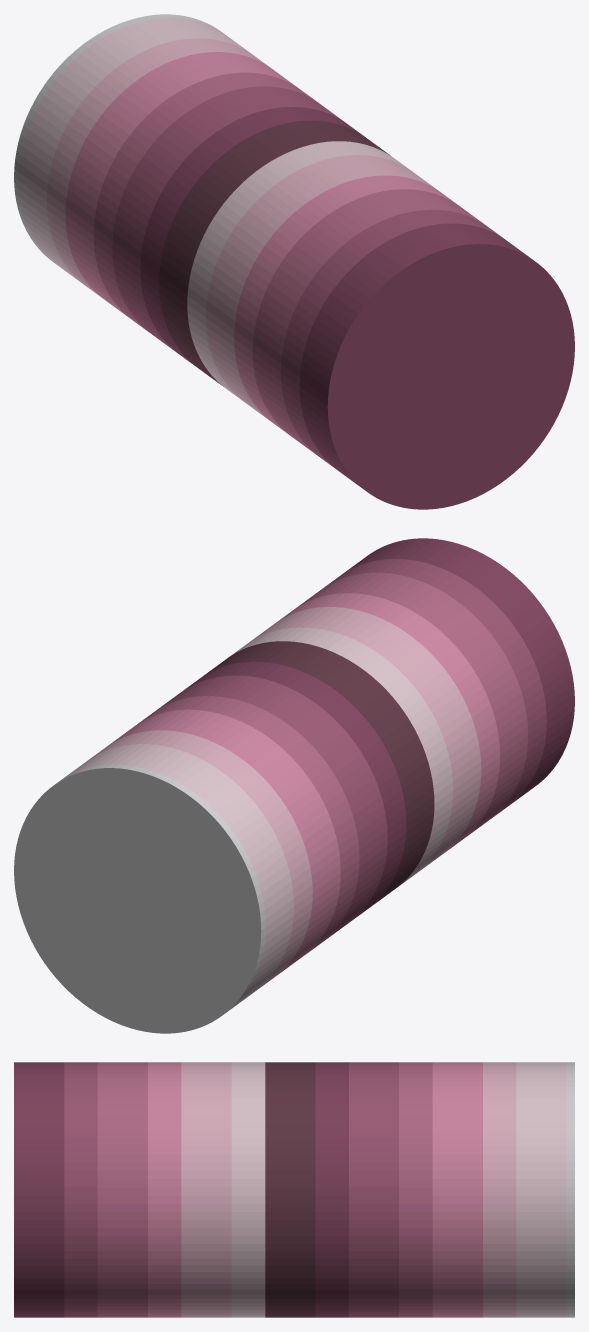
Rendered from cake_6in_layers7.glb.
The picture shows the model from 3 angles, top to bottom: view 1: azimuth 30°, elevation 25°; view 2: azimuth 150°, elevation 25°; view 3: azimuth 270°, elevation 25°; orthographic projection. The views are drawn at different scales.
Visible parts, largest first — view 1: geometry_12, geometry_6, geometry_4, geometry_8, geometry_2, geometry_0, geometry_10, geometry_3, geometry_9, geometry_7, geometry_5, geometry_1 (+2 smaller); view 2: geometry_13, geometry_2, geometry_6, geometry_4, geometry_10, geometry_12, geometry_0, geometry_8, geometry_5, geometry_7, geometry_1, geometry_3 (+2 smaller); view 3: geometry_0, geometry_2, geometry_6, geometry_8, geometry_10, geometry_12, geometry_4, geometry_7, geometry_1, geometry_3, geometry_5, geometry_9 (+2 smaller).
Part boxes in pixels (<box>): geometry_12: <box>299,223,574,509</box>; geometry_6: <box>159,120,390,385</box>; geometry_4: <box>112,86,343,350</box>; geometry_8: <box>206,155,436,420</box>; geometry_2: <box>65,52,297,317</box>; geometry_0: <box>18,17,249,282</box>; geometry_10: <box>253,189,483,453</box>; geometry_3: <box>93,72,315,330</box>; geometry_9: <box>234,175,455,433</box>; geometry_7: <box>187,141,409,399</box>; geometry_5: <box>140,107,361,365</box>; geometry_1: <box>46,38,268,295</box>; geometry_13: <box>14,764,265,1033</box>; geometry_2: <box>110,709,340,975</box>; geometry_6: <box>203,641,434,905</box>; geometry_4: <box>156,675,387,940</box>; geometry_10: <box>296,572,527,837</box>; geometry_12: <box>343,538,574,802</box>; geometry_0: <box>63,744,293,1008</box>; geometry_8: <box>250,607,481,871</box>; geometry_5: <box>184,661,406,919</box>; geometry_7: <box>231,627,453,885</box>; geometry_1: <box>91,730,312,988</box>; geometry_3: <box>137,696,359,953</box>; geometry_0: <box>516,1062,566,1317</box>; geometry_2: <box>432,1062,482,1317</box>; geometry_6: <box>265,1062,315,1317</box>; geometry_8: <box>181,1062,231,1317</box>; geometry_10: <box>97,1062,147,1317</box>; geometry_12: <box>14,1062,64,1317</box>; geometry_4: <box>349,1062,398,1317</box>; geometry_7: <box>231,1062,265,1317</box>; geometry_1: <box>483,1062,516,1317</box>; geometry_3: <box>399,1062,432,1317</box>; geometry_5: <box>315,1062,348,1317</box>; geometry_9: <box>148,1062,181,1317</box>.
Bounding box in the file's own units: 0.1524 × 0.1524 × 0.335.
